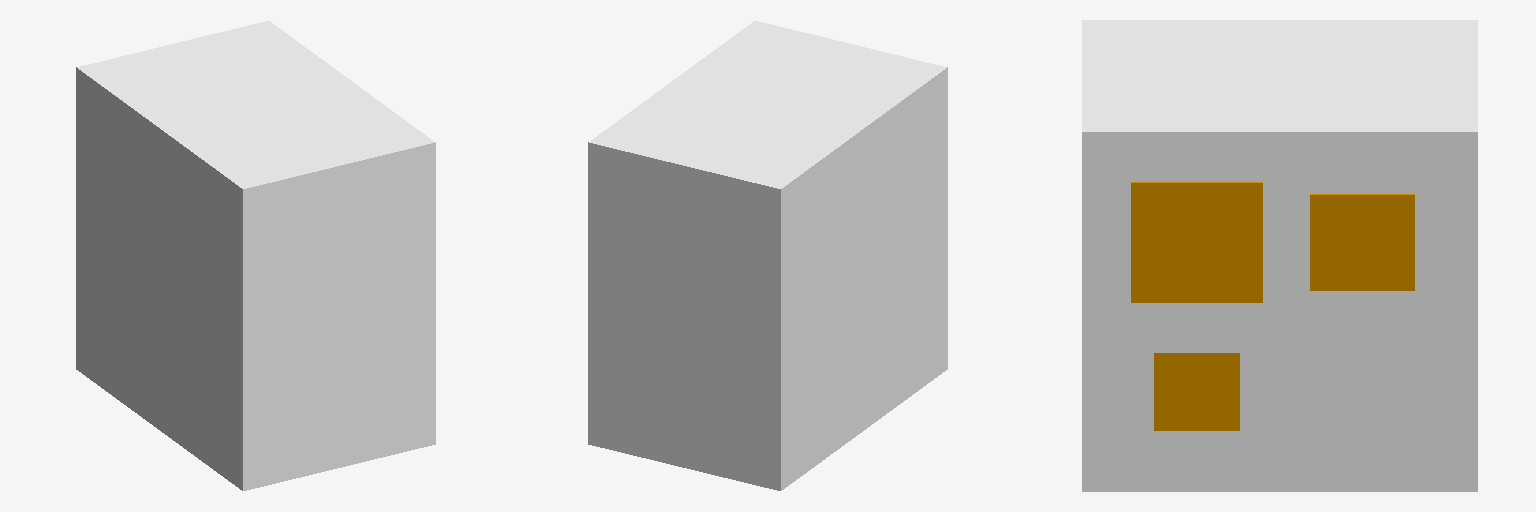
robot.urdf — april_tag:
<robot name="april_tag">

	<!-- * * * Link Definitions * * * -->

    <link name="simple_box_base_link">
 	    <inertial>
            <origin xyz="0 0 0" rpy="0 0 0"/>
            <mass value="1.0" />
            <inertia ixx="0.0741666666667" ixy="0.0" ixz="0.0" iyy="0.0585416666667" iyz="0.0" izz="0.0260416666667"/>
        </inertial>
        <collision>
            <origin xyz="0 0 0" rpy="0 0 0"/>
            <geometry>
                <box size="0.4 0.6 0.6"/>
            </geometry>
        </collision>
        <visual>
            <origin rpy="0.0 0 0" xyz="0 0 0"/>
            <geometry>
                <!--<box size="0.8 0.8 0.2"/>-->
                <mesh filename="package://ibvs_projeto/urdf/tag_wall.dae"/>
            </geometry>
        </visual>
    </link>
    
    <gazebo reference="simple_box_base_link">
        <kp>100000.0</kp>
        <kd>100000.0</kd>
        <mu1>0.1</mu1>
        <mu2>0.1</mu2>
        <fdir1>1 0 0</fdir1>
    </gazebo>

</robot>

--- What the picture shows (computed from the rendered views, not written in the file) ---
The picture shows the robot from 3 angles, left to right: view 1: azimuth 30°, elevation 25°; view 2: azimuth 150°, elevation 25°; view 3: azimuth 270°, elevation 25°; orthographic projection.
Model april_tag with 1 links and 0 joints (none), rooted at simple_box_base_link, posed all joints at 0.
Links seen in each view (by area): view 1: simple_box_base_link; view 2: simple_box_base_link; view 3: simple_box_base_link.
Link boxes in pixels (x1,y1,x2,y2): simple_box_base_link: (76, 21, 435, 490); simple_box_base_link: (588, 21, 947, 490); simple_box_base_link: (1082, 20, 1477, 491).
Size in the robot's own frame: 0.4025 by 0.6 by 0.6 metres.
Meshes: 1 distinct files referenced, 1 mesh visuals loaded (1 Collada DAE).